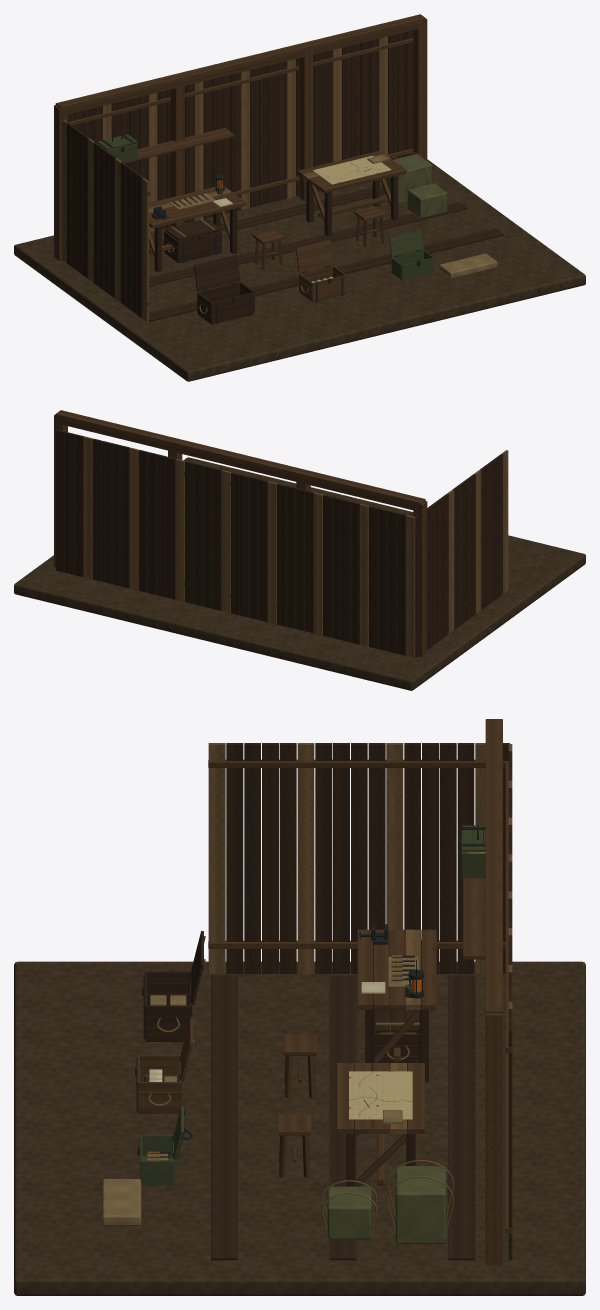
File: A_BaseWorkshop.fbx
3 renders of one model, top to bottom at view 1: azimuth 30°, elevation 25°; view 2: azimuth 150°, elevation 25°; view 3: azimuth 270°, elevation 25°, orthographic. The views are drawn at different scales.
Visible parts, largest first — view 1: Cutaway earth foundation, Shelter upper beam, Shelter floor board, Shelter floor board.001, Shelter structural post.003, Shelter structural post.002, Wall batten.001, Shelter structural post.001, Shelter structural post, Wall board.024, Wall board.023, Wall board.025 (+50 smaller); view 2: Cutaway earth foundation, Shelter upper beam, Shelter structural post, Wall board.002, Wall board.007, Wall board.011, Wall board.021, Wall board.025, Wall board.026, Wall board.030, Wall board.035, Wall board.006 (+47 smaller); view 3: Cutaway earth foundation, Shelter floor board.002, Shelter floor board, Shelter upper beam, Shelter floor board.001, Shelter structural post.003, Wrapped bale, Wall board.039, Wall board.040, Wall board.043, Wall board.044, Wall board.045 (+29 smaller).
Boxes of the visible parts, x1,y1,x2,y2 form: Cutaway earth foundation: [14, 159, 585, 381]; Shelter upper beam: [55, 14, 425, 115]; Shelter floor board: [149, 228, 503, 321]; Shelter floor board.001: [149, 202, 467, 286]; Shelter structural post.003: [413, 18, 427, 160]; Shelter structural post.002: [299, 47, 313, 201]; Wall batten.001: [68, 38, 413, 125]; Shelter structural post.001: [171, 86, 184, 226]; Shelter structural post: [54, 105, 67, 260]; Wall board.024: [277, 61, 286, 200]; Wall board.023: [268, 63, 277, 202]; Wall board.025: [286, 59, 295, 198]; Cutaway earth foundation: [14, 457, 585, 690]; Shelter upper beam: [55, 410, 425, 511]; Shelter structural post: [413, 501, 427, 656]; Wall board.002: [387, 510, 396, 653]; Wall board.007: [341, 499, 351, 642]; Wall board.011: [304, 490, 314, 633]; Wall board.021: [212, 468, 222, 610]; Wall board.025: [175, 459, 185, 601]; Wall board.026: [166, 456, 175, 599]; Wall board.030: [129, 447, 138, 590]; Wall board.035: [83, 436, 93, 579]; Wall board.006: [350, 501, 359, 644]; Cutaway earth foundation: [14, 961, 585, 1295]; Shelter floor board.002: [448, 975, 475, 1260]; Shelter floor board: [211, 975, 237, 1260]; Shelter upper beam: [485, 719, 502, 1013]; Shelter floor board.001: [329, 975, 356, 1260]; Shelter structural post.003: [485, 1013, 502, 1264]; Wrapped bale: [395, 1166, 446, 1243]; Wall board.039: [208, 743, 225, 973]; Wall board.040: [226, 743, 243, 973]; Wall board.043: [279, 743, 296, 973]; Wall board.044: [297, 743, 314, 973]; Wall board.045: [315, 743, 332, 973].
Bounding box in the file's own units: 700 × 279 × 530.
12 materials, 12 textured.
